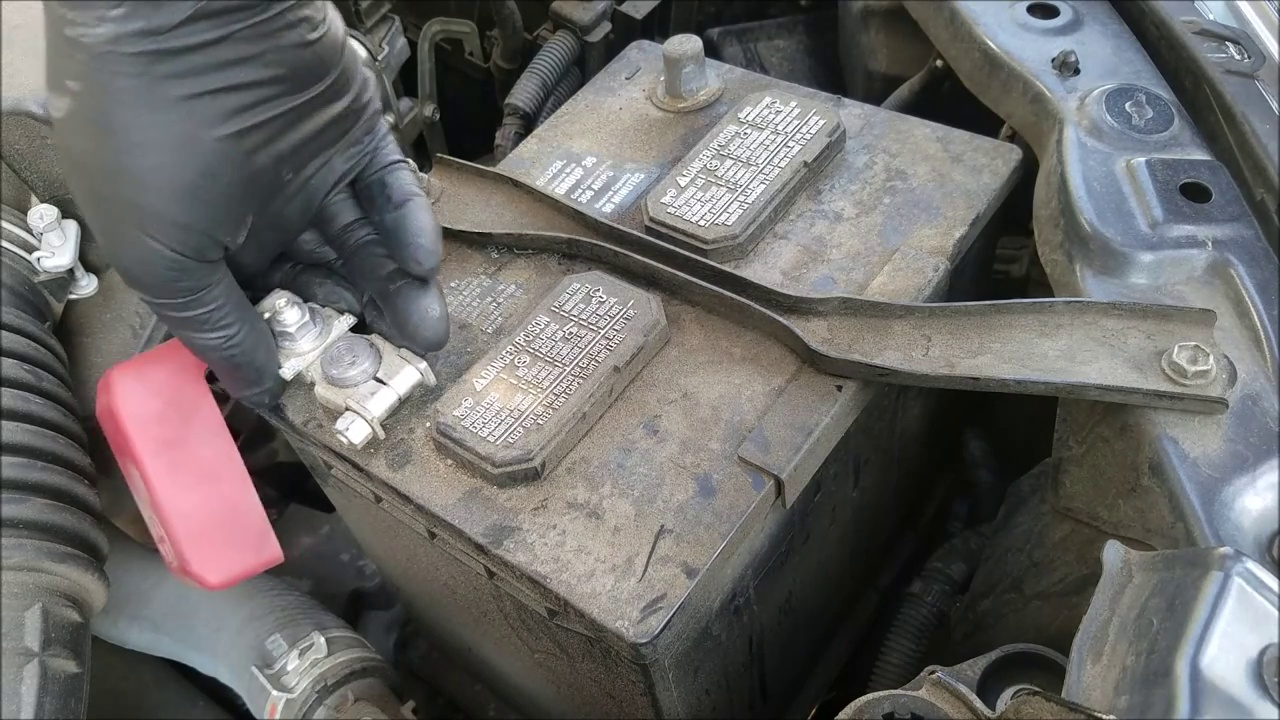battery: (240, 34, 1019, 624)
neg_disconnected: (603, 3, 763, 120)
pos_connected: (110, 259, 443, 526)
pos_touched: (101, 66, 436, 521)
